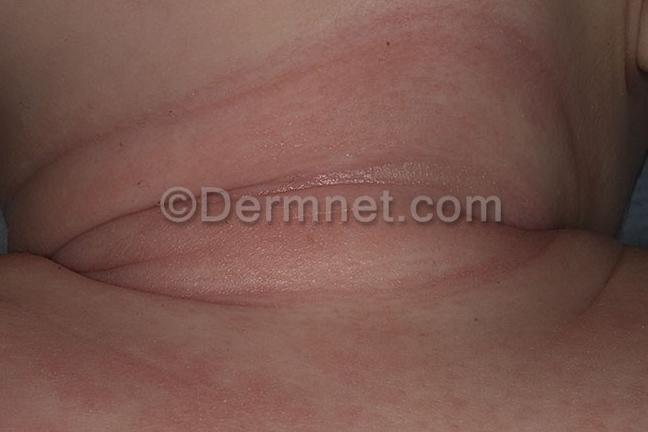eritema 1: (0, 35, 648, 432)
